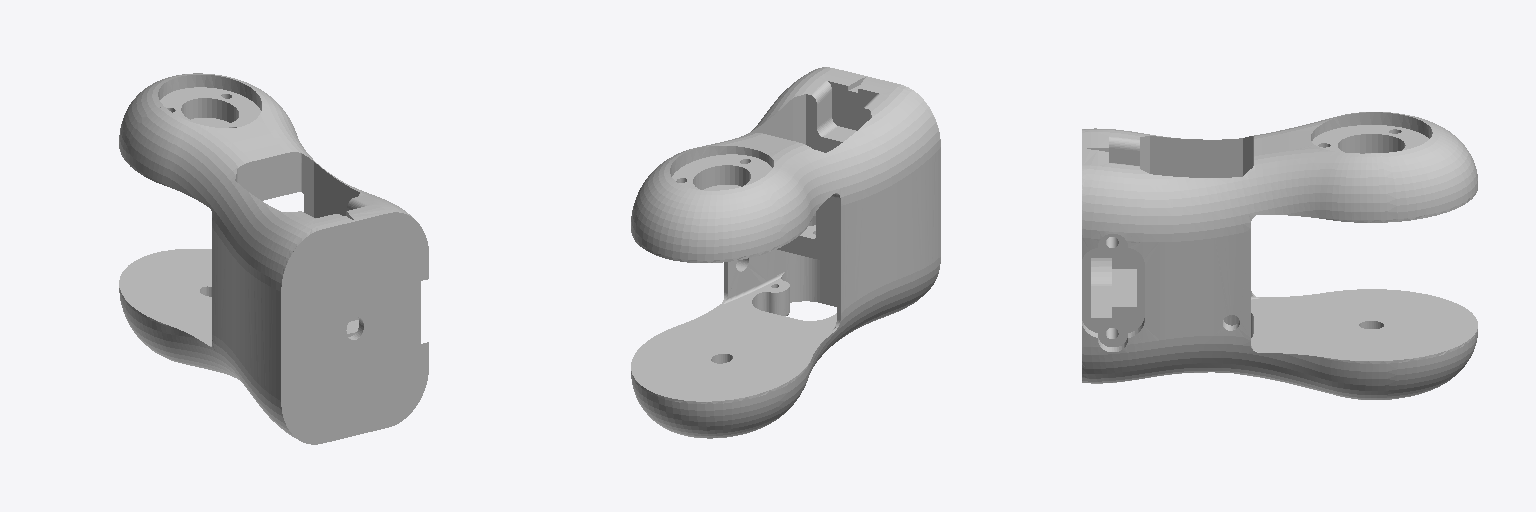
Rendered from pochylacz_chwytakav2.obj.
3 renders of one model, left to right at view 1: azimuth 30°, elevation 25°; view 2: azimuth 150°, elevation 25°; view 3: azimuth 270°, elevation 25°, orthographic.
Parts seen in each view (by area): view 1: Wrist.002_Wrist.007_Material.001; view 2: Wrist.002_Wrist.007_Material.001; view 3: Wrist.002_Wrist.007_Material.001.
Boxes of the visible parts, x1=… form: Wrist.002_Wrist.007_Material.001: x1=119, y1=73, x2=428, y2=444; Wrist.002_Wrist.007_Material.001: x1=631, y1=67, x2=940, y2=438; Wrist.002_Wrist.007_Material.001: x1=1082, y1=112, x2=1477, y2=399.
Size of the model in its own units: 0.1151 by 0.1783 by 0.2599.